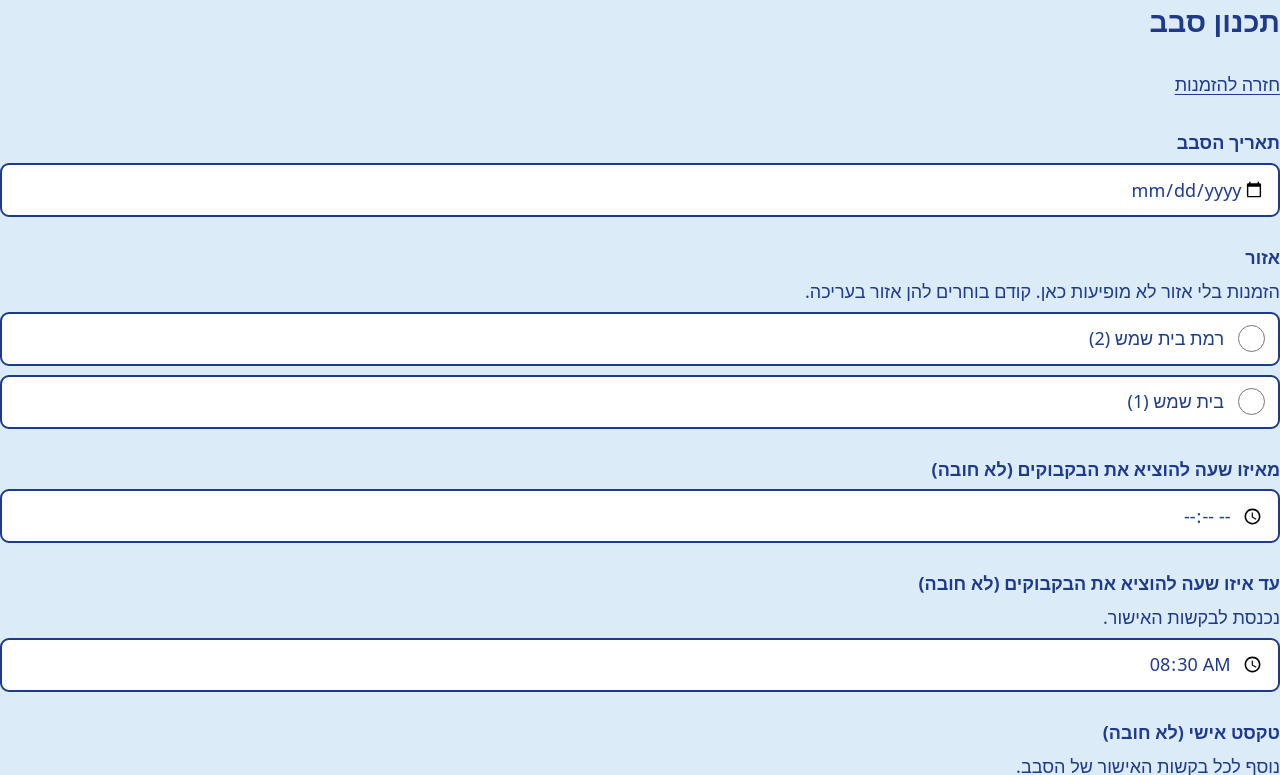
Test: PlanRoundScreen › checks before sending › asks for a date next to its field, focuses it, and sends nothing
Click the radio button labelled "רמת בית שמש (2)" at (1251, 339), box [1238,325,1264,352]
(page scrolled)
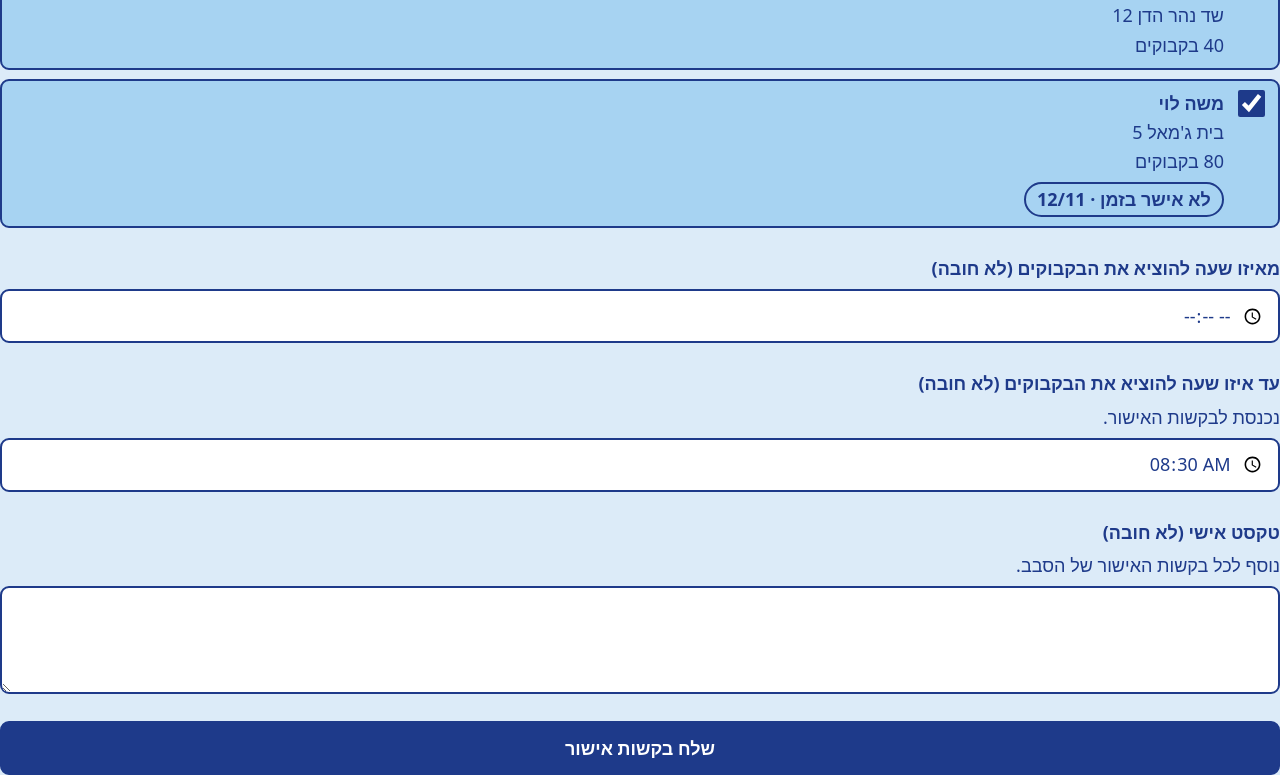
Click the button "שלח בקשות אישור" at (640, 748), box [0,721,1279,774]
(page scrolled)
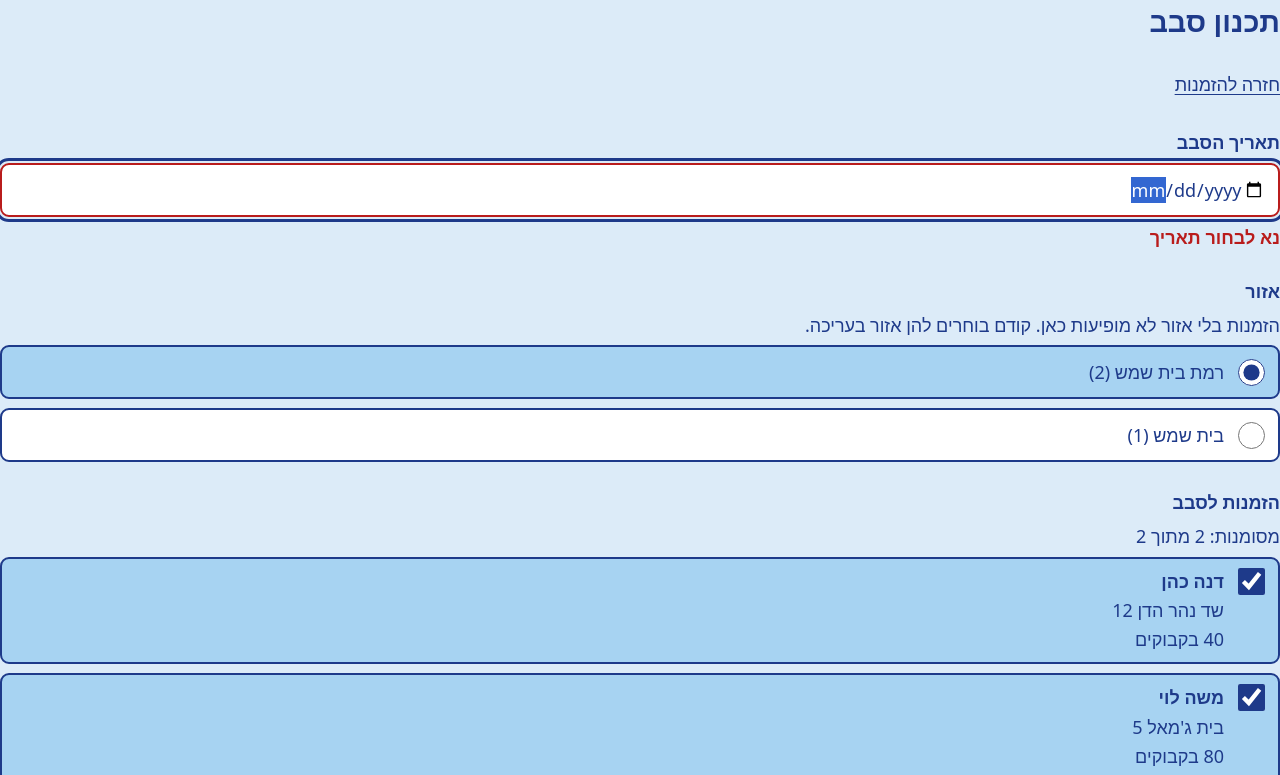
Check: the text "נא לבחור תאריך" is shown, box [1150,225,1279,249]
